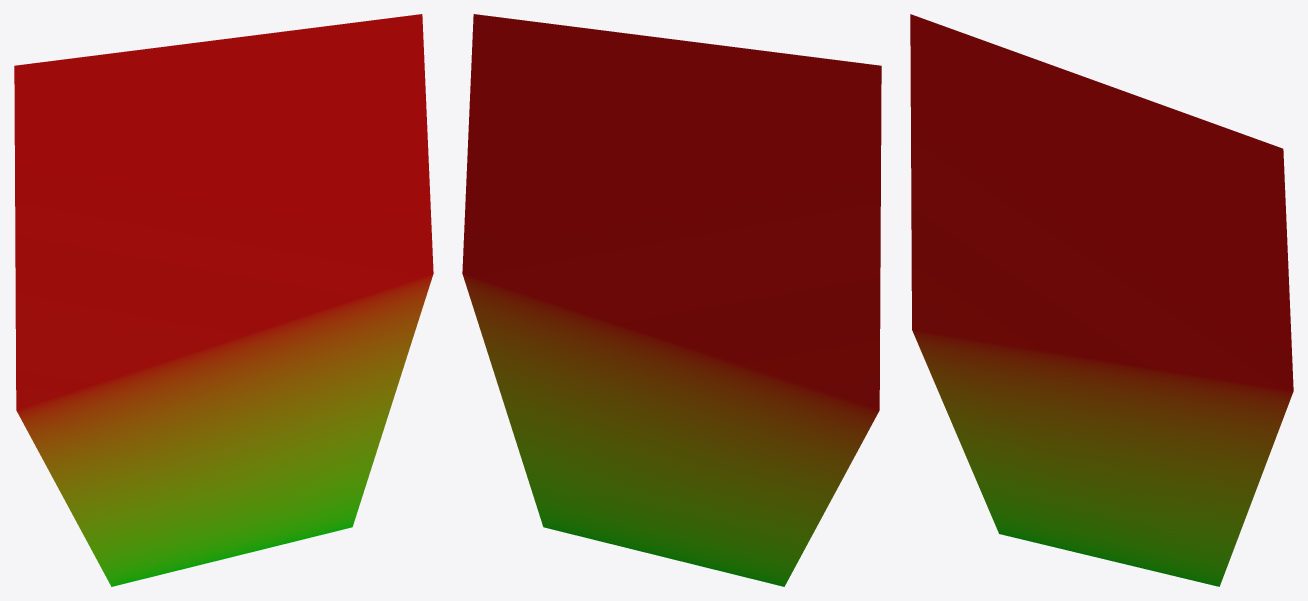
File: Var3_LOD5.fbx
The picture shows the model from 3 angles, left to right: view 1: azimuth 30°, elevation 25°; view 2: azimuth 150°, elevation 25°; view 3: azimuth 330°, elevation 25°; orthographic projection. The views are drawn at different scales.
Visible parts, largest first — view 1: _9yeh_Var3_LOD5; view 2: _9yeh_Var3_LOD5; view 3: _9yeh_Var3_LOD5.
Part boxes in pixels (x1,y1,x2,y2): _9yeh_Var3_LOD5: (14,14,433,586); _9yeh_Var3_LOD5: (462,14,881,586); _9yeh_Var3_LOD5: (910,14,1293,586).
Bounding box in the file's own units: 37.99 × 47.19 × 5.63e-06.
